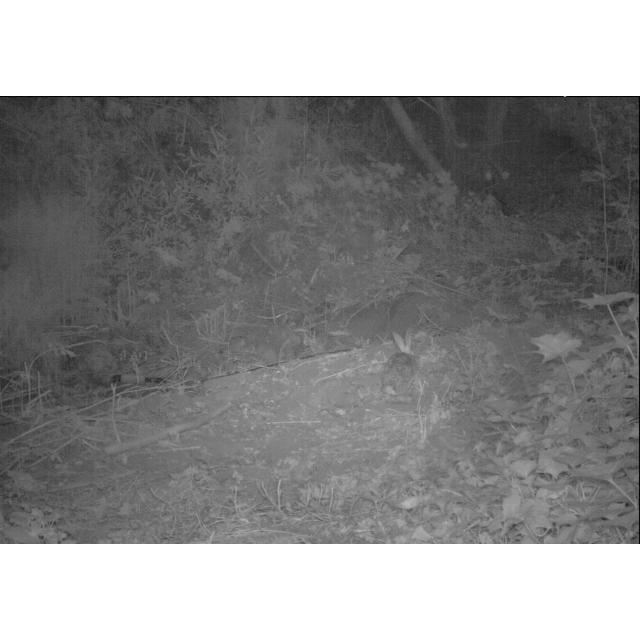animals: (382, 329, 420, 395)
